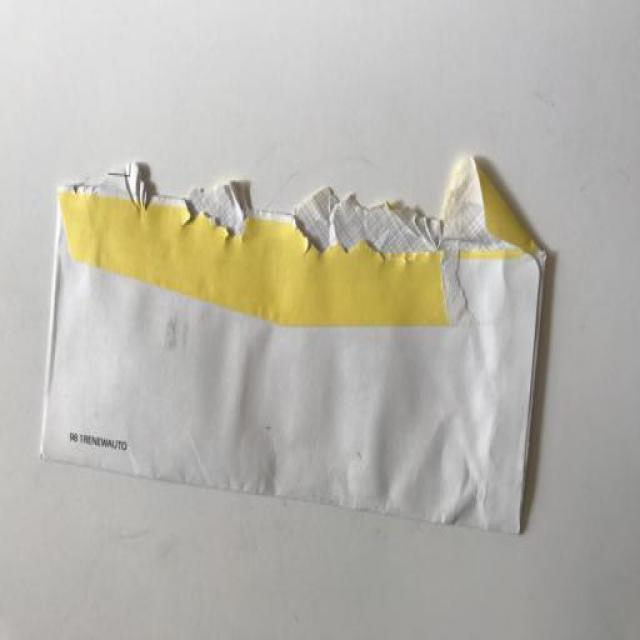paper: (19, 138, 553, 556)
